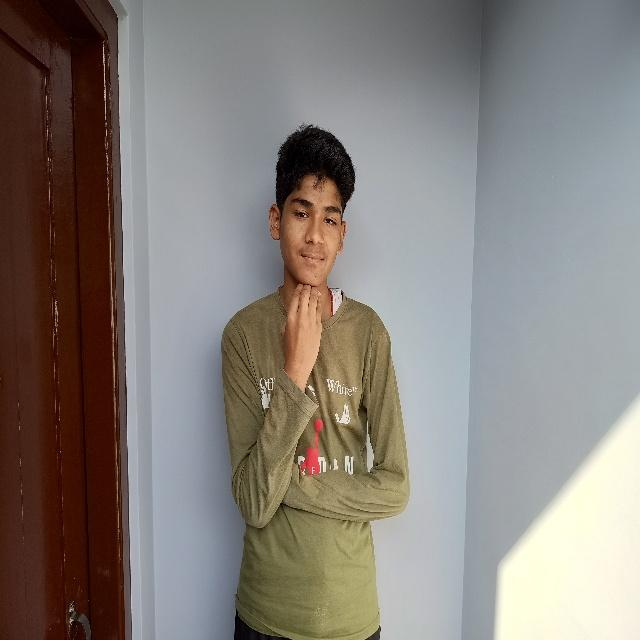Chin Flick: (267, 126, 361, 374)
